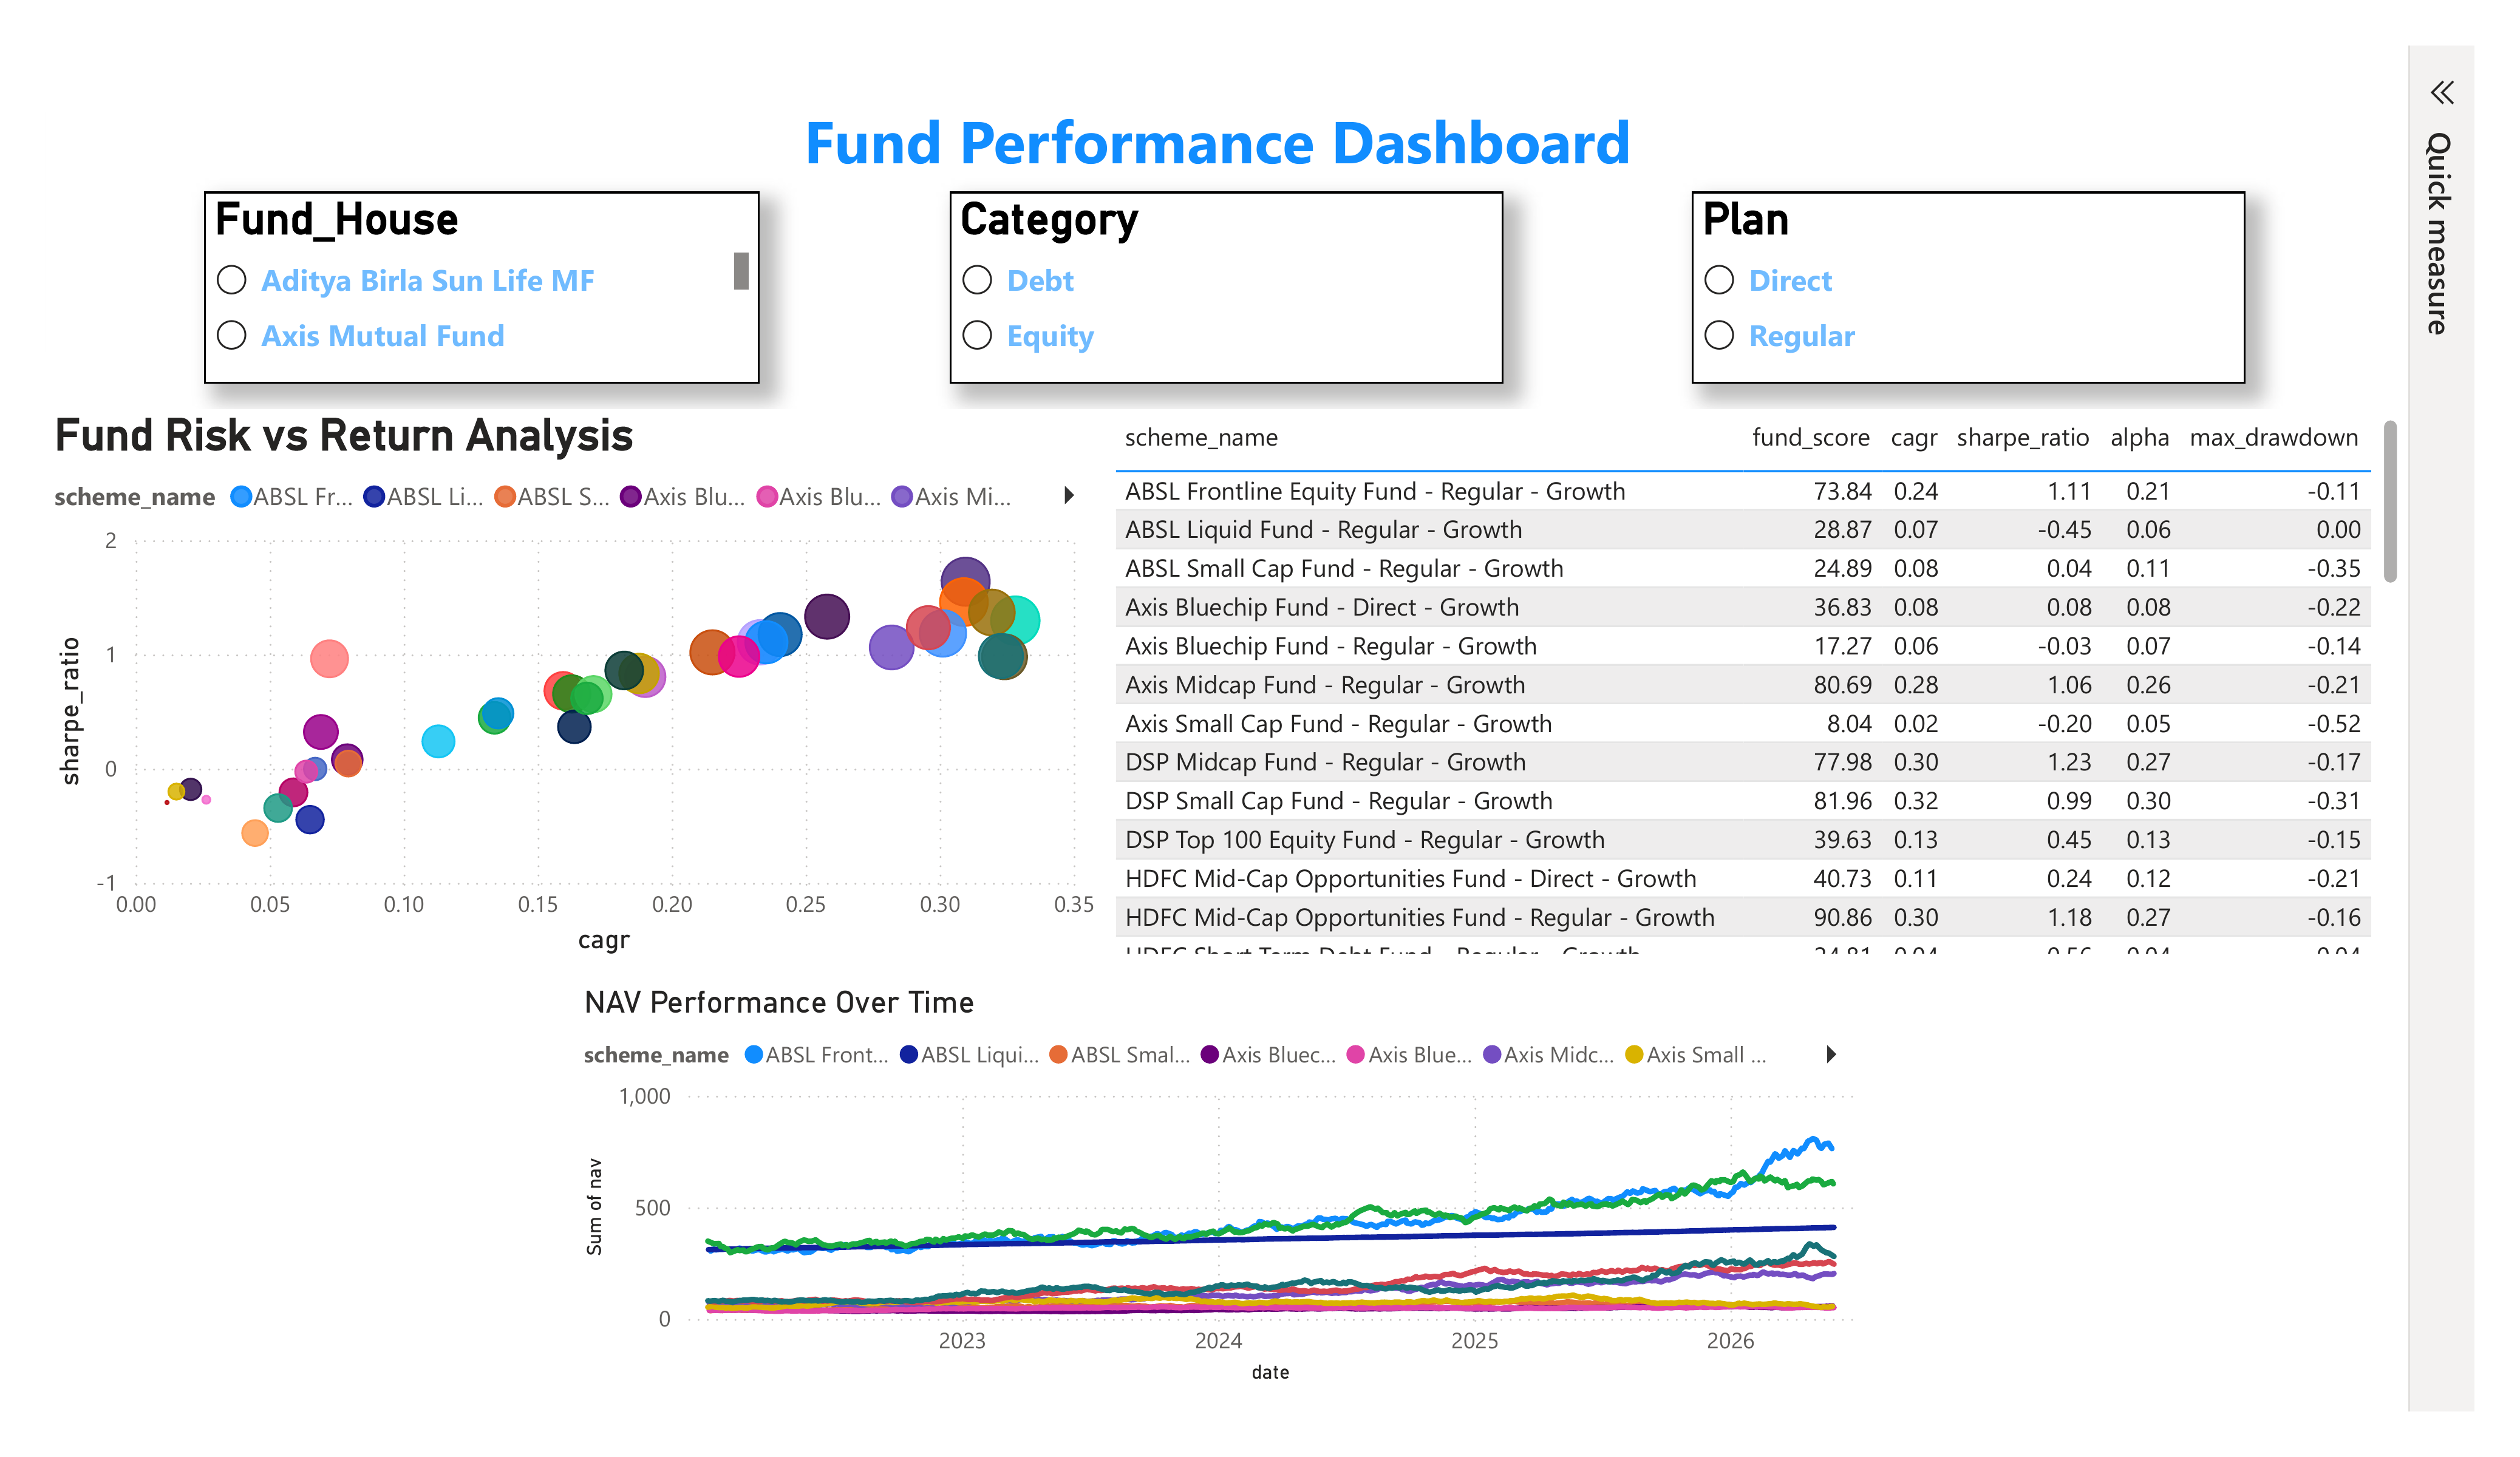

Layout of this report page (visuals, bound fields, positions):
{"tool":"powerbi","page":{"name":"Fund Performance","canvas":[1280,720],"ordinal":1},"visuals":[{"type":"textbox","box":[406.2,13.7,561.2,266.2],"z":0},{"type":"listSlicer","title":"Fund_House","fields":{"Values":["01_fund_master.fund_house"]},"box":[86.4,68.6,300.5,104.3],"z":1000},{"type":"listSlicer","title":"Category","fields":{"Values":["01_fund_master.category"]},"box":[489.9,68.6,300.5,104.3],"z":2000},{"type":"listSlicer","title":"Plan","fields":{"Values":["01_fund_master.plan"]},"box":[891.9,68.6,300.5,104.3],"z":3000},{"type":"scatterChart","title":"Fund Risk vs Return Analysis","fields":{"X":["fund_scorecard.cagr"],"Y":["fund_scorecard.sharpe_ratio"],"Size":["Sum(fund_scorecard.fund_score)"],"Series":["fund_scorecard.scheme_name"]},"box":[0,186.6,573.6,300.5],"z":4000},{"type":"tableEx","fields":{"Values":["fund_scorecard.scheme_name","fund_scorecard.fund_score","fund_scorecard.cagr","fund_scorecard.sharpe_ratio","fund_scorecard.alpha","fund_scorecard.max_drawdown"]},"box":[573.6,186.6,706.7,300.5],"z":5000},{"type":"lineChart","title":"NAV Performance Over Time","fields":{"Y":["Sum(clean_nav.nav)"],"Category":["clean_nav.date"],"Series":["01_fund_master.scheme_name"]},"box":[286.8,498.1,699.8,222.3],"z":6000}]}

Visuals, with their boxes on the page's 1280x720 design canvas (x1, y1, x2, y2). These are canvas units, not pixel positions in the 2520x1457 screenshot, which may show the page scaled, cropped or inside an application window:
textbox: bbox=[406, 14, 967, 280]
"Fund_House" listSlicer: bbox=[86, 69, 387, 173]
"Category" listSlicer: bbox=[490, 69, 790, 173]
"Plan" listSlicer: bbox=[892, 69, 1192, 173]
"Fund Risk vs Return Analysis" scatterChart: bbox=[0, 187, 574, 487]
tableEx - fund_scorecard.scheme_name x fund_scorecard.fund_score: bbox=[574, 187, 1280, 487]
"NAV Performance Over Time" lineChart: bbox=[287, 498, 987, 720]
